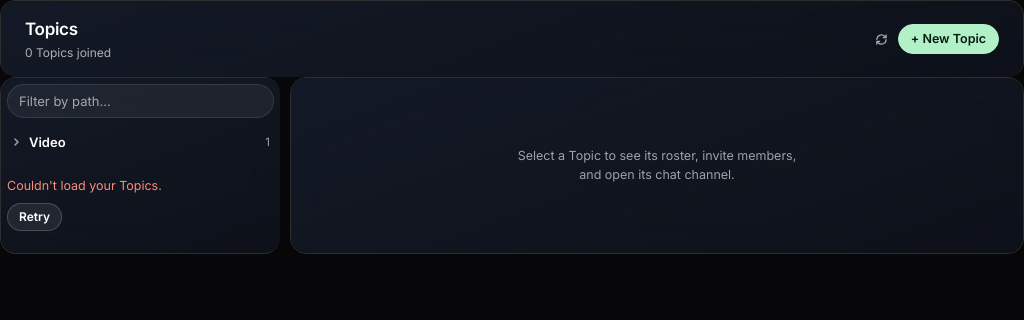
Test: QURATOR-152/154 — a failed mine load never hides a painted directory › mine load FAILS, directory painted → the tree STAYS visible and the failure is an inline notice
Click the button with class "root-header": (47,142) [7,124,274,161]
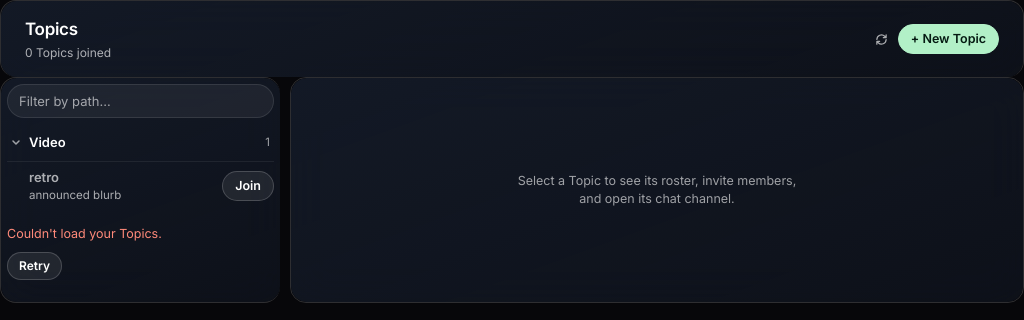
Check: the message "Couldn't load your Topics. Retry" is shown, box [7,226,162,280]
Check: the text "retro" is shown, box [29,169,59,185]
Check: the text "announced blurb" is shown, box [29,188,121,202]
